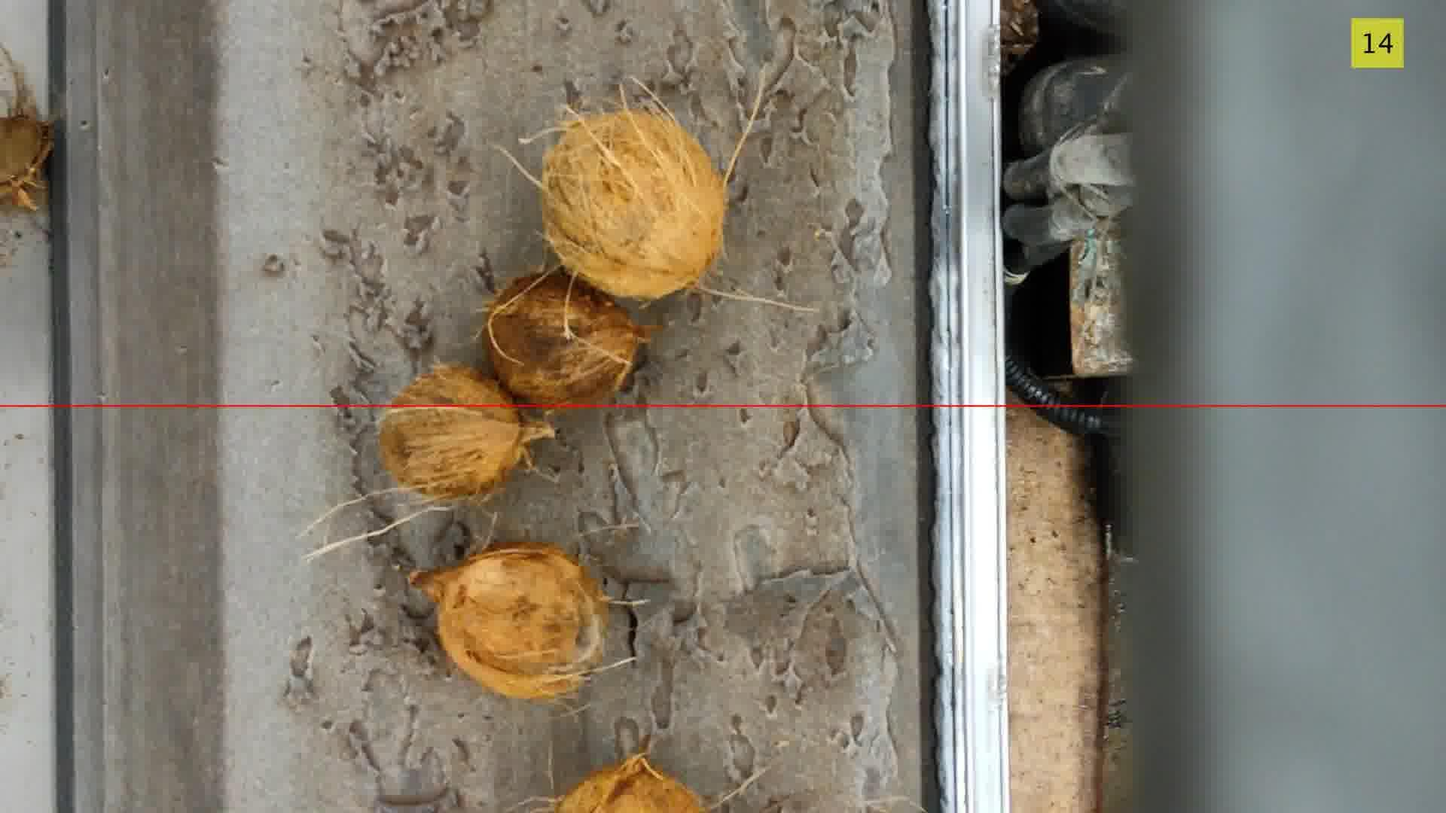Coconut: (542, 111, 725, 290), (410, 542, 606, 699), (380, 365, 551, 499), (486, 275, 644, 403), (554, 755, 703, 812), (0, 114, 53, 210)
